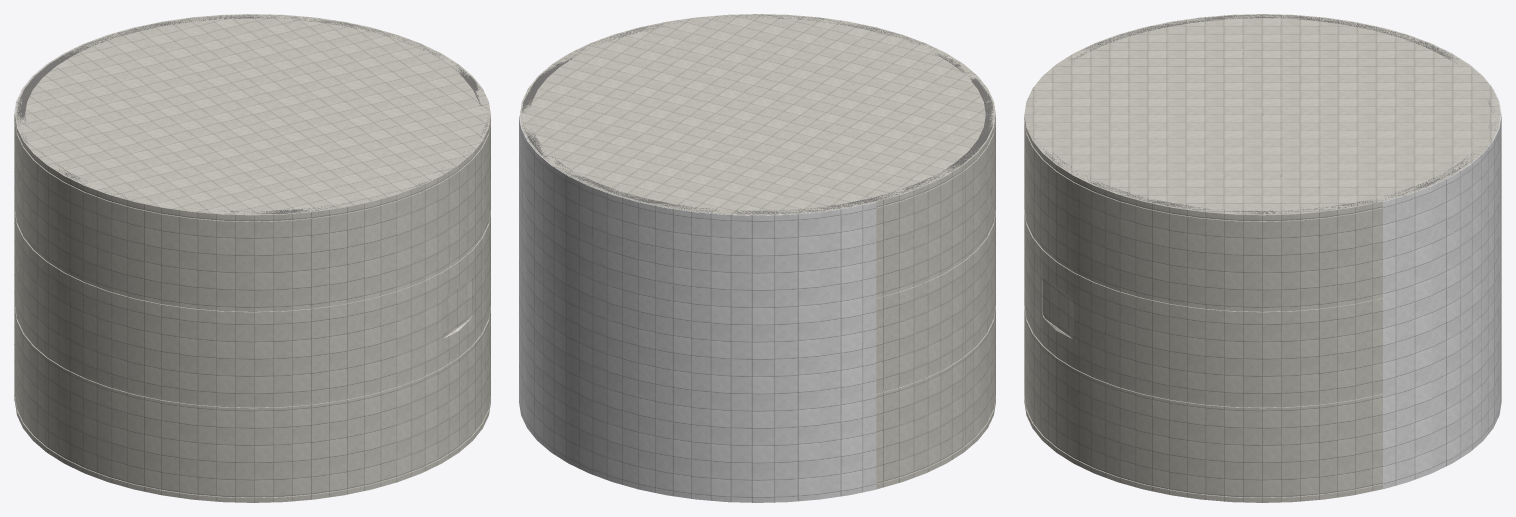
File: ax_aero_12_fs3x_fuselage_short.glb
3 views of the same model, side by side, from view 1: azimuth 30°, elevation 25°; view 2: azimuth 150°, elevation 25°; view 3: azimuth 270°, elevation 25° (orthographic).
Visible parts, largest first — view 1: fuselage, end_frames, belly_tiles; view 2: fuselage, belly_tiles, end_frames; view 3: fuselage, belly_tiles, end_frames.
Boxes of the visible parts, box(x1,y1,x2,y2) form: fuselage: box(15, 14, 490, 502); end_frames: box(16, 15, 488, 214); belly_tiles: box(14, 14, 370, 401); fuselage: box(520, 14, 995, 489); belly_tiles: box(519, 115, 876, 502); end_frames: box(522, 14, 993, 214); fuselage: box(1024, 14, 1500, 502); belly_tiles: box(1383, 27, 1501, 489); end_frames: box(1030, 14, 1497, 214).
Size of the model in its own units: 3.75 by 2.5 by 3.76.
Materials: 3 (3 with a texture image).
